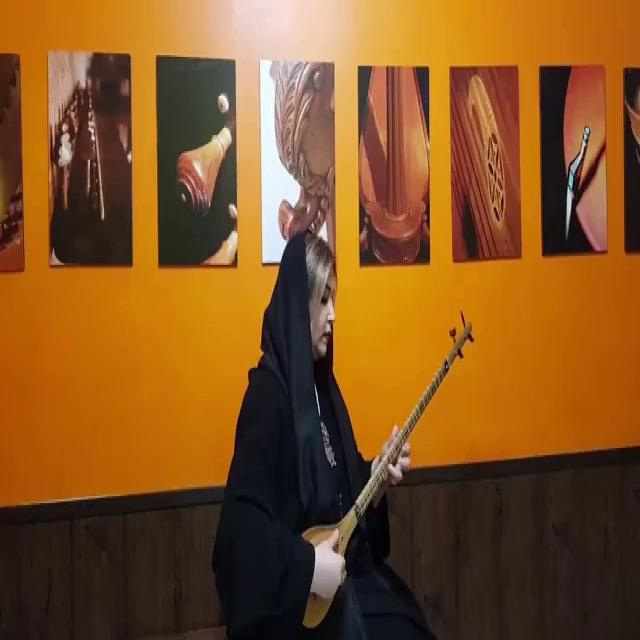Setar: (284, 304, 484, 636)
